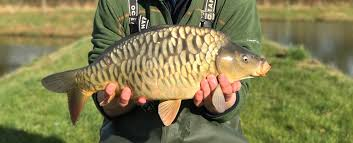carp: (41, 23, 274, 127)
